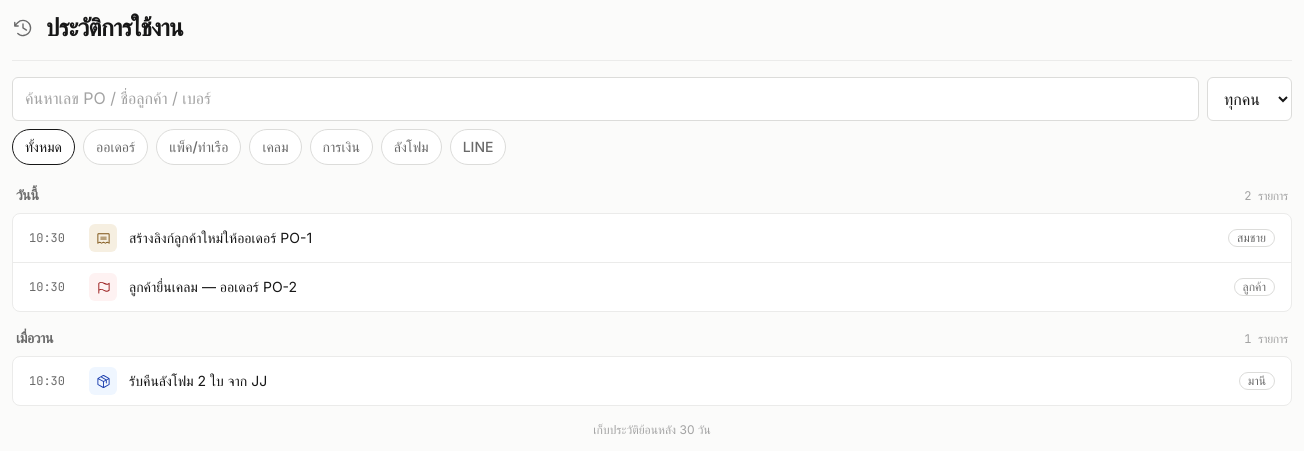
Test: nothing matching says so
The width and height of the screenshot is (1304, 451).
Expected: the text "สร้างลิงก์ลูกค้าใหม่ให้ออเดอร์ PO-1" is shown, [129,229,312,246]
Type "zzz" into the field with placeholder "ค้นหาเลข PO / ชื่อลูกค้า / เบอร์" at (606, 99), box [12,77,1199,121]
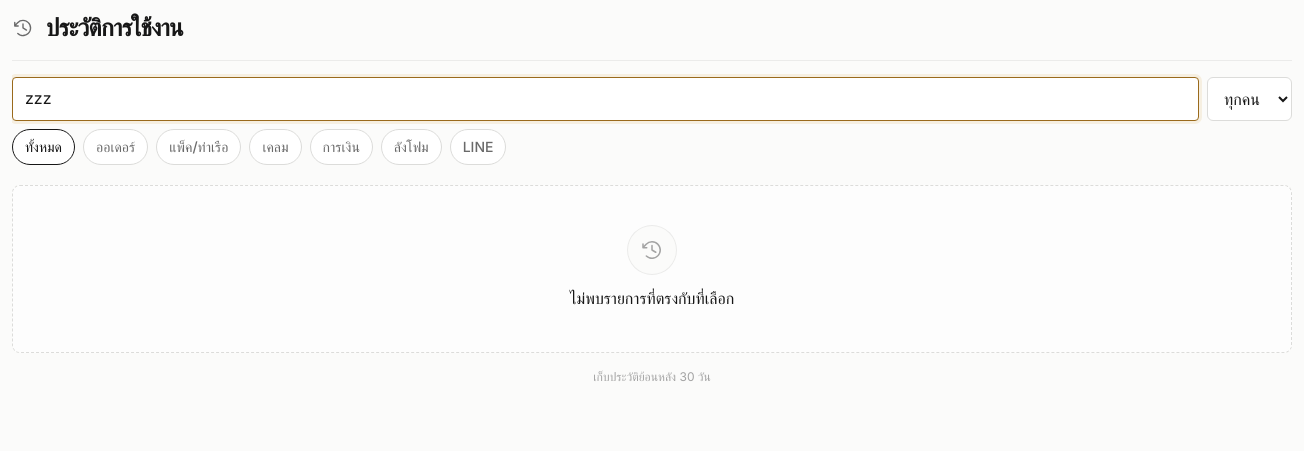
Now the text "ไม่พบรายการที่ตรงกับที่เลือก" is shown, box [570,286,734,312]
